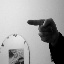g: (25, 17, 58, 44)
